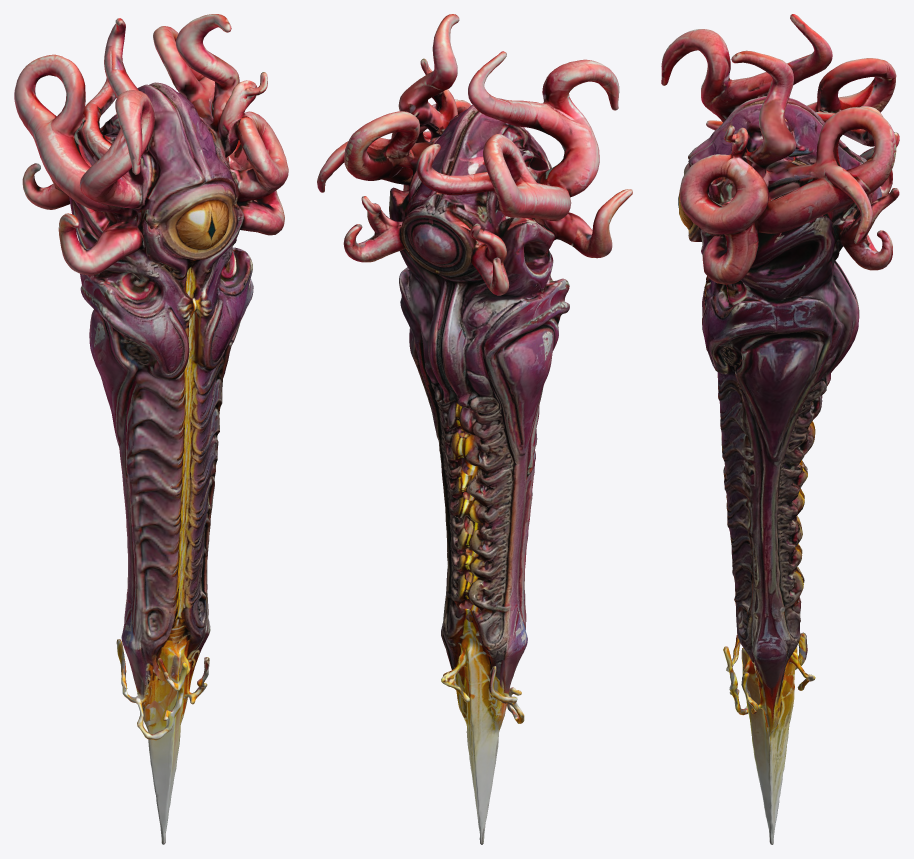
The picture shows the model from 3 angles, left to right: view 1: azimuth 30°, elevation 25°; view 2: azimuth 150°, elevation 25°; view 3: azimuth 270°, elevation 25°; orthographic projection. The views are drawn at different scales.
Size of the model in its own units: 0.3112 by 1 by 0.2658.
Materials: 1 (1 with a texture image).
